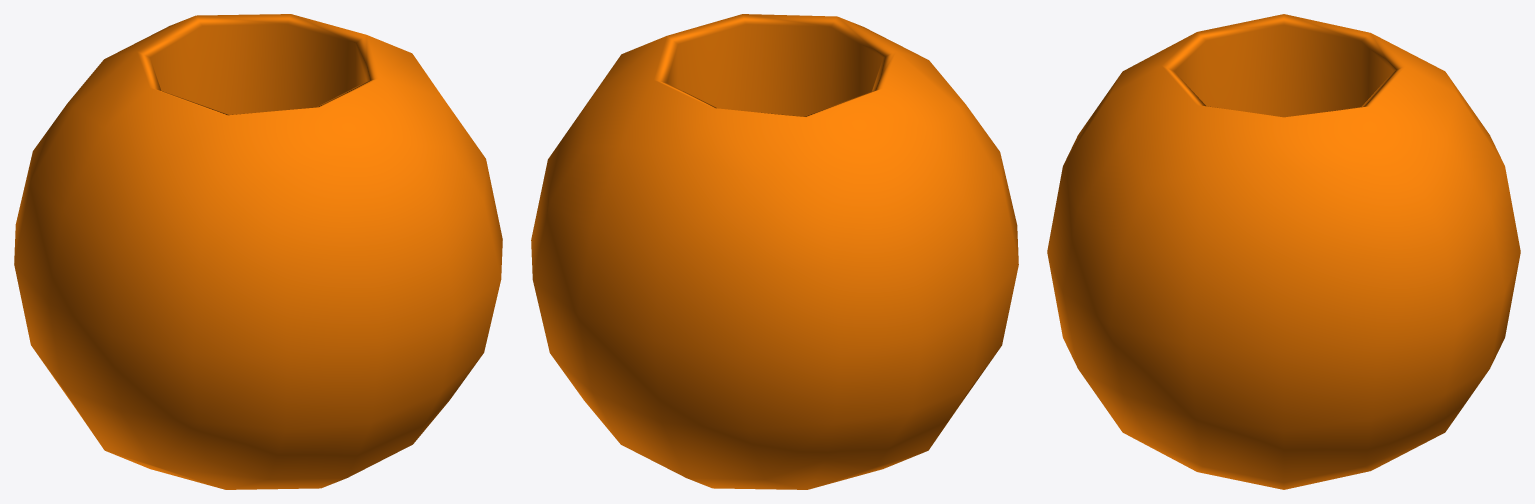
Rendered from Store_9_Toy_Ball_3.glb.
3 views of the same model, side by side, from view 1: azimuth 30°, elevation 25°; view 2: azimuth 150°, elevation 25°; view 3: azimuth 270°, elevation 25° (orthographic). The views are drawn at different scales.
Parts seen in each view (by area): view 1: Store_9_Toy_Ball_3; view 2: Store_9_Toy_Ball_3; view 3: Store_9_Toy_Ball_3.
Boxes of the visible parts, x1,y1,x2,y2 form: Store_9_Toy_Ball_3: (14,14,502,489); Store_9_Toy_Ball_3: (531,14,1018,489); Store_9_Toy_Ball_3: (1047,14,1520,489).
Bounding box in the file's own units: 0.2652 × 0.2301 × 0.2652.
1 material, 1 textured.
